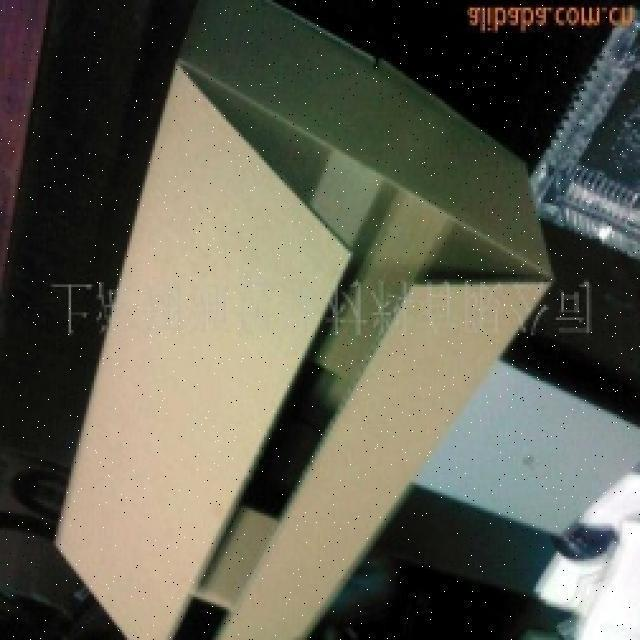box: (12, 0, 572, 640)
